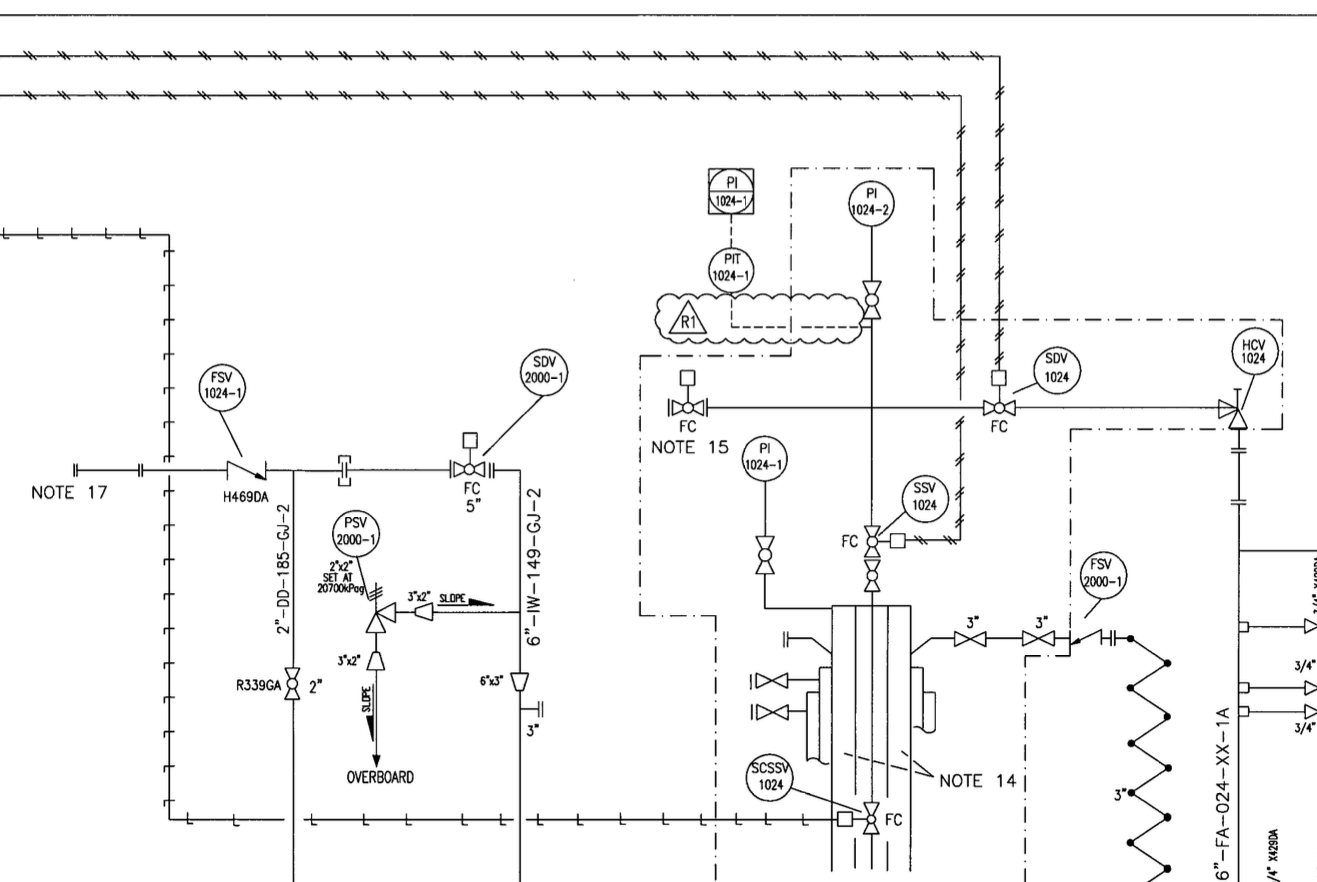Instrument: (195, 355, 249, 418), (731, 433, 793, 486), (741, 749, 799, 805), (898, 469, 952, 529), (1077, 545, 1129, 607), (514, 346, 576, 398), (1031, 342, 1085, 400), (327, 509, 385, 559), (1229, 323, 1280, 377), (705, 244, 757, 295), (846, 177, 897, 228)
Instrument-square: (703, 162, 757, 221)
